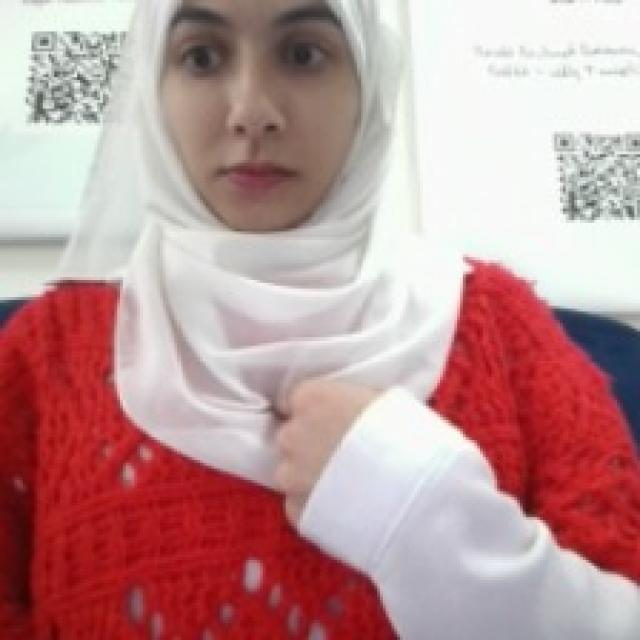me: (262, 368, 393, 539)
